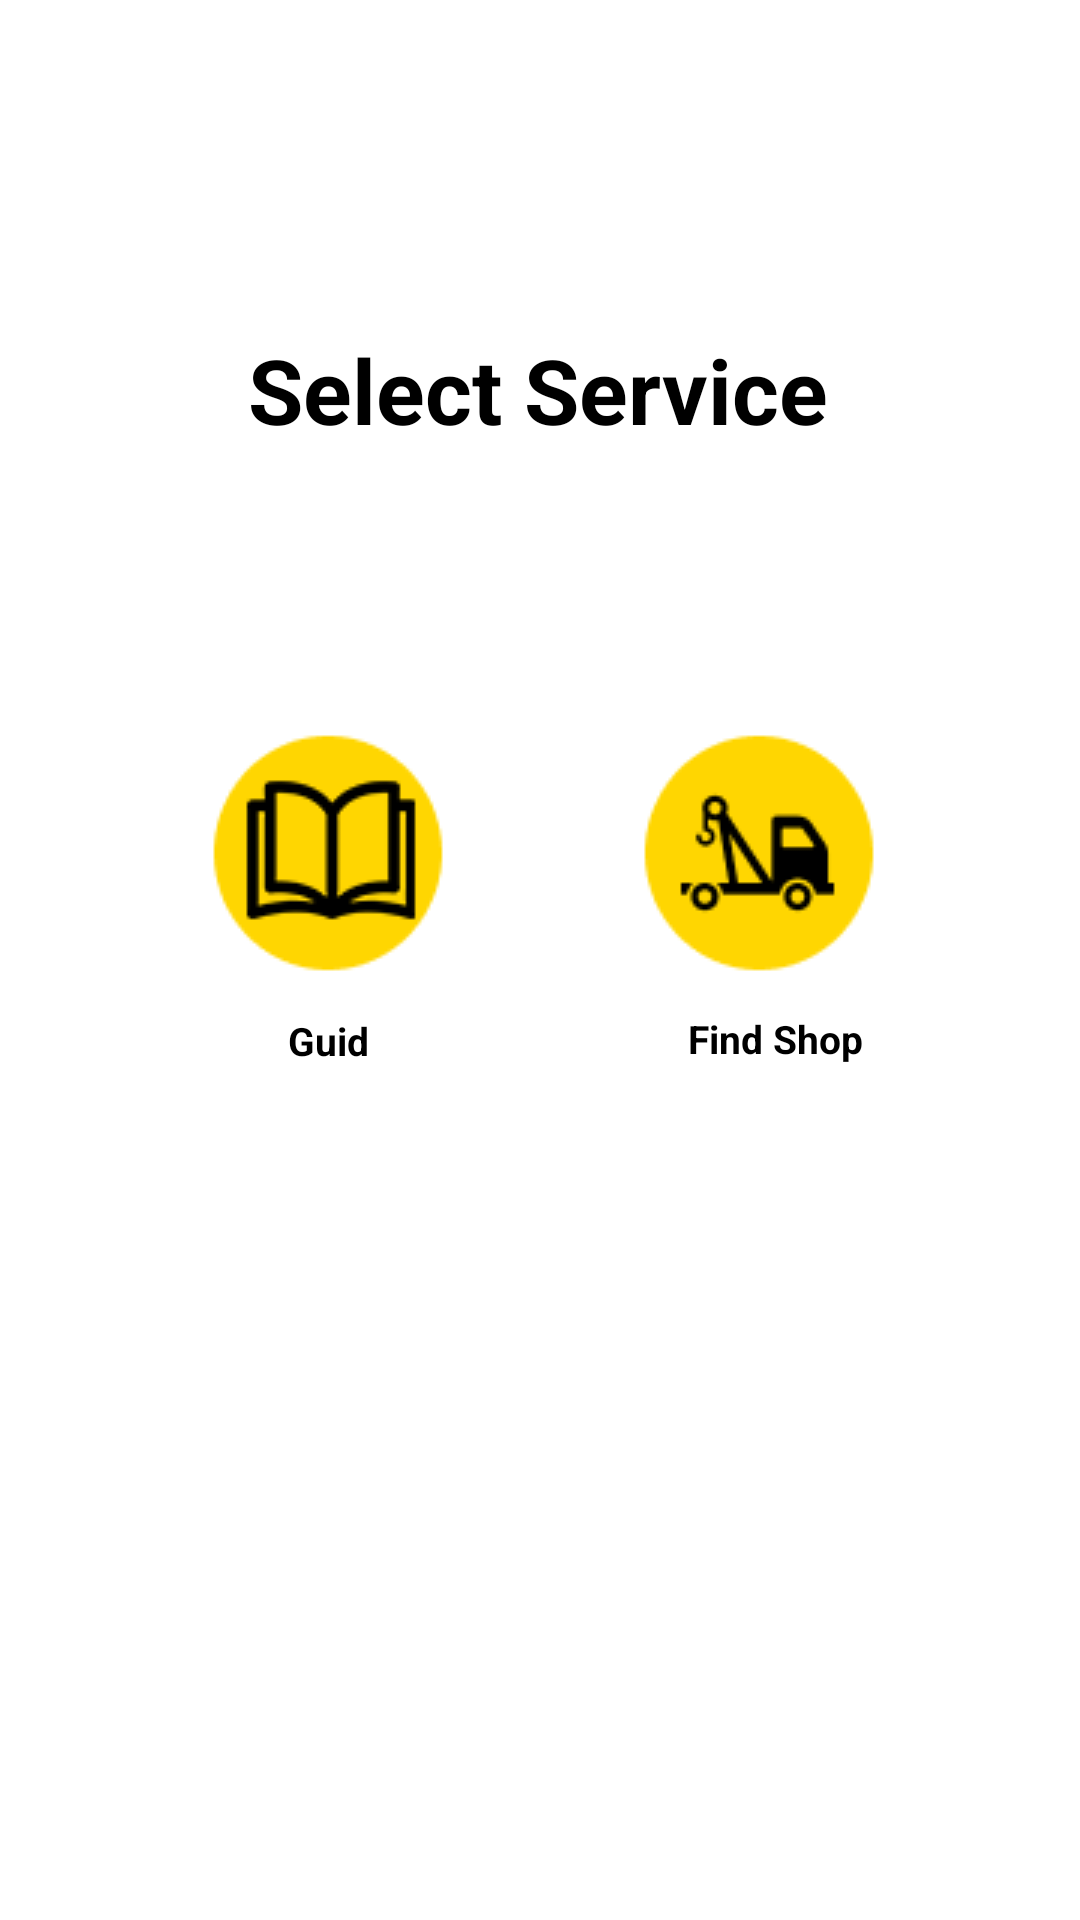

Icons on this 1080x1920 Android screen, each with its box as {"left": x1, "top": y1, "right": x2, "bottom": y2}:
book: {"left": 213, "top": 735, "right": 443, "bottom": 1033}
